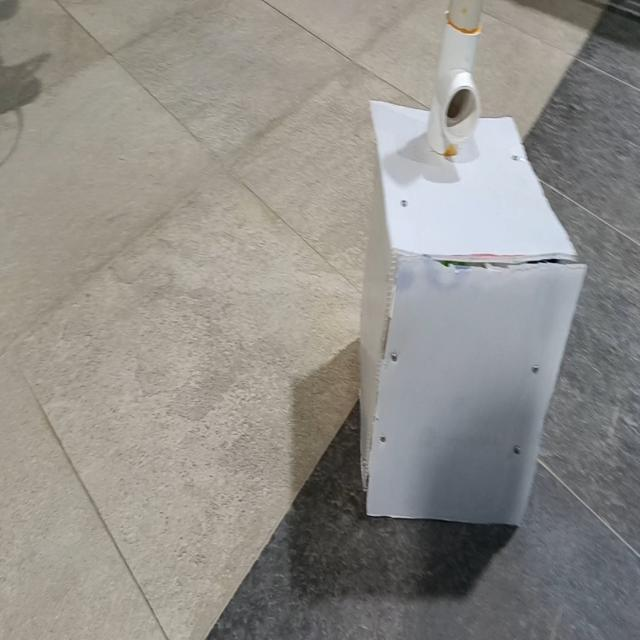Cube: (358, 98, 588, 528)
